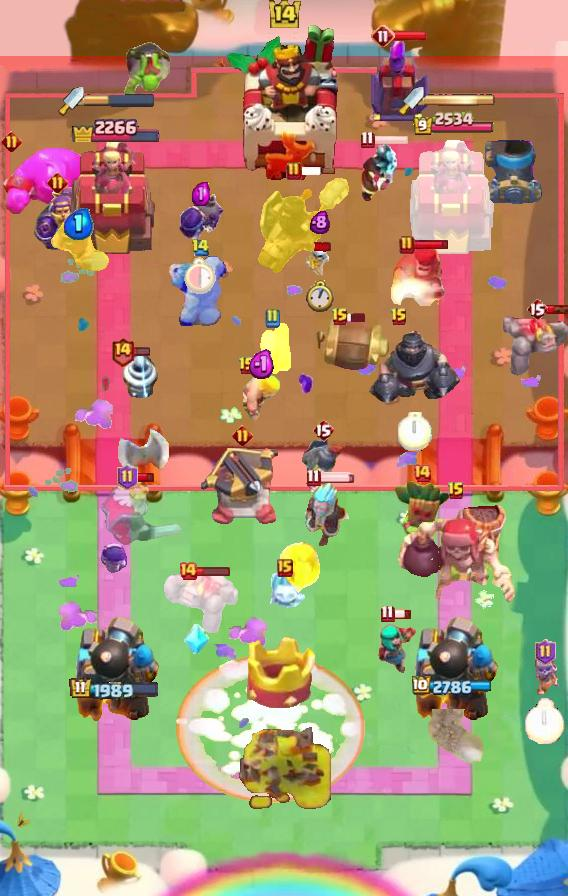axe: (117, 410, 171, 478)
bar: (318, 471, 356, 483), (372, 134, 409, 146), (392, 30, 428, 42), (413, 239, 450, 250), (195, 566, 231, 577), (300, 166, 336, 176), (546, 304, 568, 315), (392, 608, 412, 620), (314, 241, 333, 253), (347, 312, 367, 323), (136, 472, 155, 483), (132, 346, 151, 357)
bar-level: (110, 336, 135, 367), (371, 24, 395, 48), (535, 639, 556, 665), (117, 464, 138, 490), (312, 418, 334, 442), (526, 297, 548, 321), (232, 425, 253, 446), (47, 172, 68, 193), (1, 131, 22, 152), (178, 561, 198, 581), (412, 463, 432, 483), (191, 238, 210, 257), (447, 481, 465, 501), (238, 356, 256, 376), (331, 307, 349, 327), (390, 307, 408, 327), (264, 308, 280, 328), (399, 235, 415, 255), (286, 161, 302, 181), (277, 559, 293, 577), (380, 604, 395, 623), (306, 468, 321, 487), (360, 130, 375, 149)
barbarian: (241, 364, 283, 420)
barbarian-barrel: (313, 318, 393, 372)
bomber-evolution: (178, 192, 224, 250)
cannoneer-tower: (403, 615, 503, 731), (64, 615, 164, 731)
clock: (525, 698, 565, 744), (184, 256, 219, 294), (398, 412, 432, 451), (306, 280, 334, 313)
dagger-duchess-tower: (409, 138, 497, 256), (70, 138, 158, 256)
dagger-duchess-tower-bar: (424, 93, 496, 107), (84, 93, 156, 107)
dart-goblin: (392, 479, 452, 555)
dirt: (423, 709, 486, 770)
electro-wizard: (357, 144, 403, 204)
elixir: (64, 208, 94, 240), (248, 349, 276, 380), (310, 210, 330, 234), (192, 182, 210, 206)
firecracker: (251, 320, 293, 378)
goblin-ball: (123, 39, 173, 99)
golemite: (498, 312, 568, 378), (164, 571, 238, 633)
guard: (301, 437, 345, 495)
hunter: (390, 242, 448, 306)
ice-spirit: (264, 572, 306, 618)
ice-spirit-evolution-symbol: (183, 624, 209, 656)
ice-wizard: (295, 478, 355, 550)
king-tower: (224, 23, 344, 181)
knight-evolution: (33, 186, 82, 251)
miner: (47, 209, 111, 273)
mortar: (484, 140, 544, 204)
rascal-girl: (377, 619, 417, 673)
royal-ghost: (99, 477, 181, 547)
skeleton: (306, 243, 334, 275)
skeleton-evolution: (529, 655, 561, 695), (101, 542, 128, 576)
tower-bar: (69, 112, 160, 142), (69, 677, 160, 702), (412, 111, 495, 137), (412, 676, 494, 697)
zappy: (118, 352, 162, 402)
